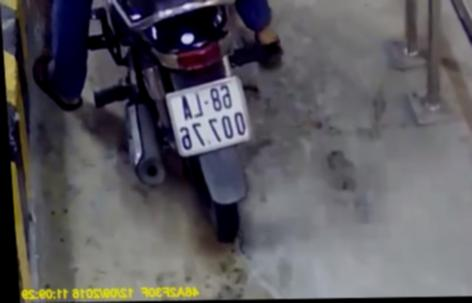License_Plate: (163, 74, 261, 167)
